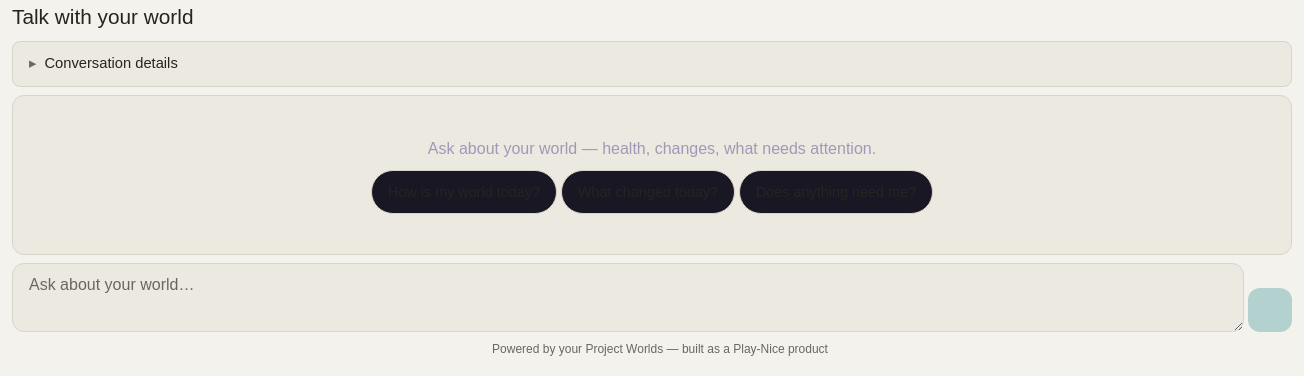
it: ChatPanel (T12, parity row 7) › Keep writing clears the error and refocuses the composer
Step 1. Type "ping" into the text box named "Message" → (628, 298), box [12, 263, 1244, 332]
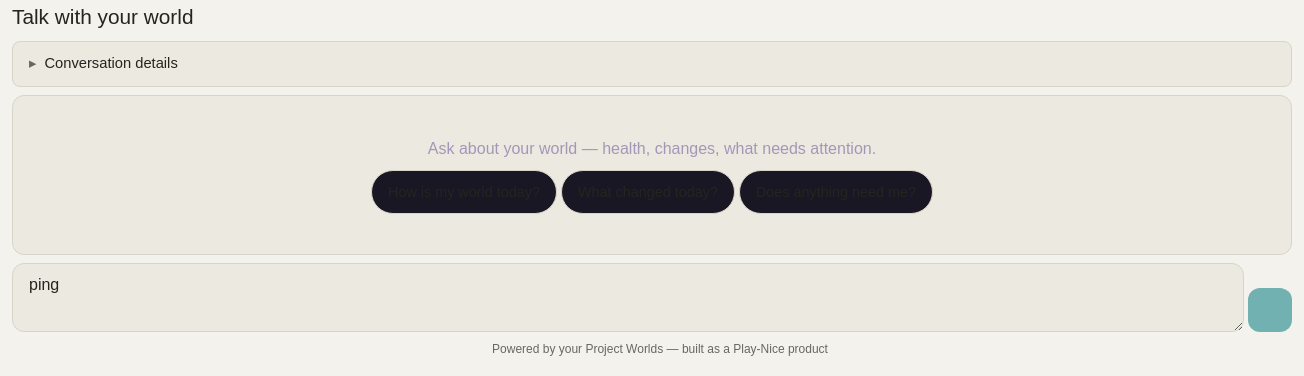
Step 2. Submit the form named "Message", box [12, 263, 1292, 332]
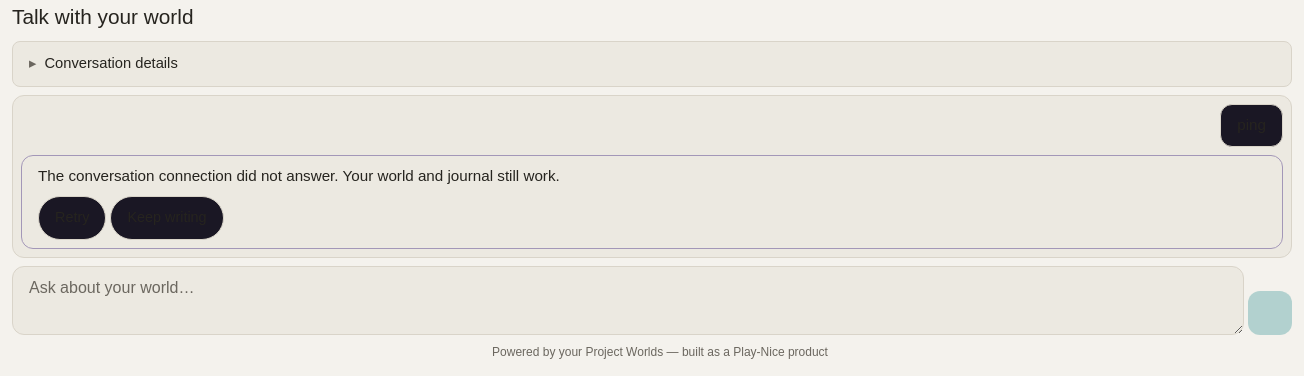
Expected: the text "The conversation connection did not answer" is shown, [38, 167, 560, 184]
Step 3. Click the button "Keep writing" → (167, 218), box [110, 196, 224, 240]
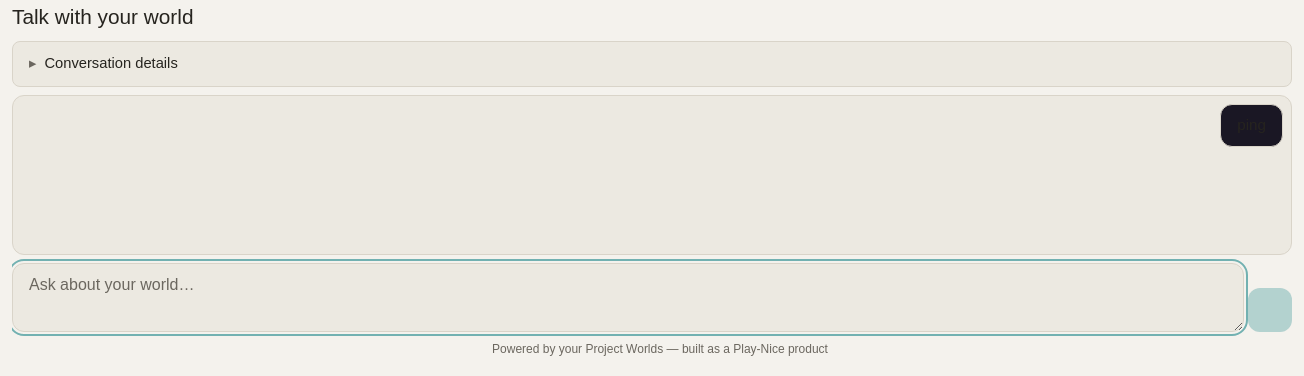
Expected: the text box named "Message" is enabled, [12, 263, 1244, 332]
Expected: the text "The conversation connection did not answer" is gone
